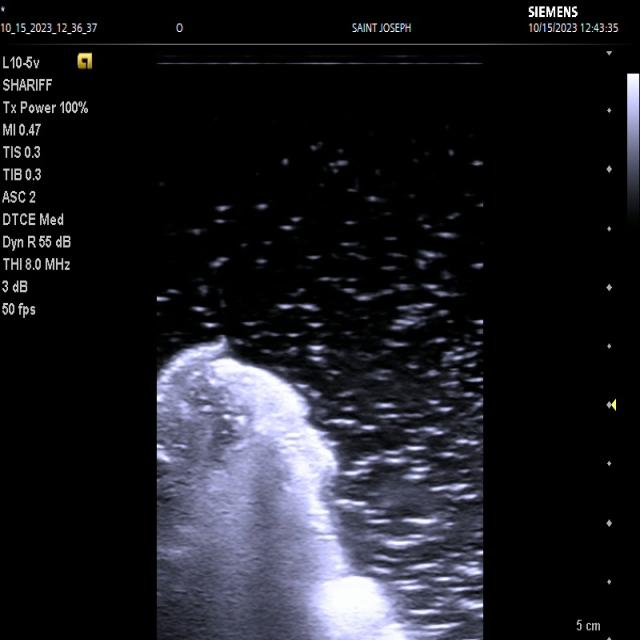tissue: (152, 333, 407, 640)
